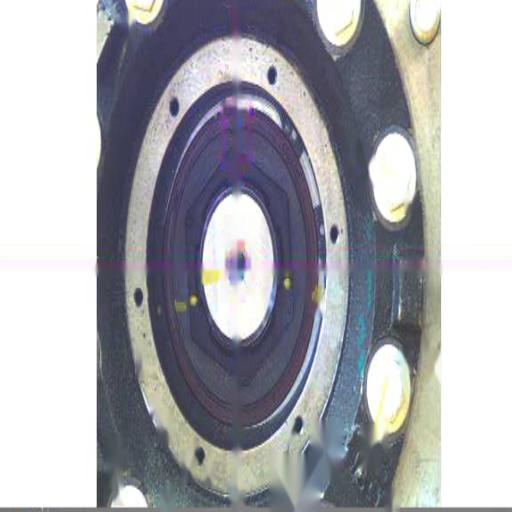center: (228, 241, 251, 290)
notch: (220, 122, 244, 146)
